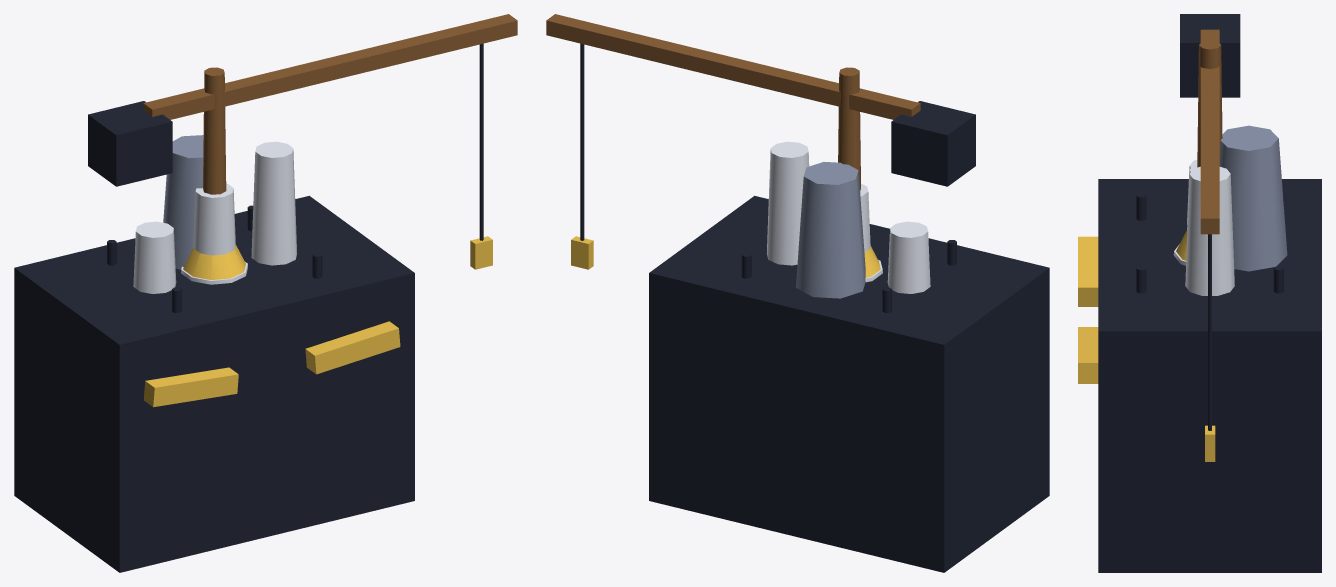
The model's file is facility-kit.glb.
3 views of the same model, side by side, from view 1: azimuth 30°, elevation 25°; view 2: azimuth 150°, elevation 25°; view 3: azimuth 270°, elevation 25° (orthographic). The views are drawn at different scales.
Visible parts, largest first — view 1: deep-thought-core, crane-boom, crane-counterweight, atmo-stack-2, deep-thought-vent, atmo-stack-0, deep-thought-brow-1, crane-mast, atmo-stack-1, deep-thought-brow--1, seed-probe-nose, crane-cable (+1 smaller); view 2: deep-thought-core, crane-boom, deep-thought-vent, crane-counterweight, atmo-stack-2, atmo-stack-0, crane-mast, crane-cable, crane-hook; view 3: deep-thought-core, deep-thought-vent, atmo-stack-2, crane-counterweight, crane-boom, deep-thought-brow--1, crane-mast, deep-thought-brow-1, crane-cable, crane-hook.
Part boxes in pixels (box(x1,y1,x2,y2)): deep-thought-core: box(14, 195, 414, 572); crane-boom: box(143, 14, 517, 119); crane-counterweight: box(88, 101, 172, 186); atmo-stack-2: box(251, 141, 297, 265); deep-thought-vent: box(163, 135, 203, 269); atmo-stack-0: box(133, 221, 176, 293); deep-thought-brow-1: box(305, 321, 400, 374); crane-mast: box(203, 67, 226, 194); atmo-stack-1: box(193, 183, 235, 255); deep-thought-brow--1: box(143, 367, 238, 407); seed-probe-nose: box(183, 245, 245, 280); crane-cable: box(479, 43, 483, 240); deep-thought-core: box(649, 195, 1049, 572); crane-boom: box(546, 14, 920, 119); deep-thought-vent: box(796, 162, 865, 298); crane-counterweight: box(891, 101, 975, 186); atmo-stack-2: box(766, 141, 809, 265); atmo-stack-0: box(887, 221, 930, 293); crane-mast: box(838, 67, 860, 191); crane-cable: box(580, 43, 584, 240); crane-hook: box(571, 236, 593, 269); deep-thought-core: box(1098, 179, 1321, 572); deep-thought-vent: box(1220, 125, 1287, 271); atmo-stack-2: box(1185, 166, 1234, 295); crane-counterweight: box(1180, 14, 1240, 97); crane-boom: box(1200, 29, 1219, 234); deep-thought-brow--1: box(1078, 236, 1098, 306); crane-mast: box(1197, 40, 1222, 167); deep-thought-brow-1: box(1078, 327, 1098, 383); crane-cable: box(1208, 234, 1211, 430); crane-hook: box(1205, 425, 1215, 461).
Bounding box in the file's own units: 6.35 × 5.83 × 2.83.
